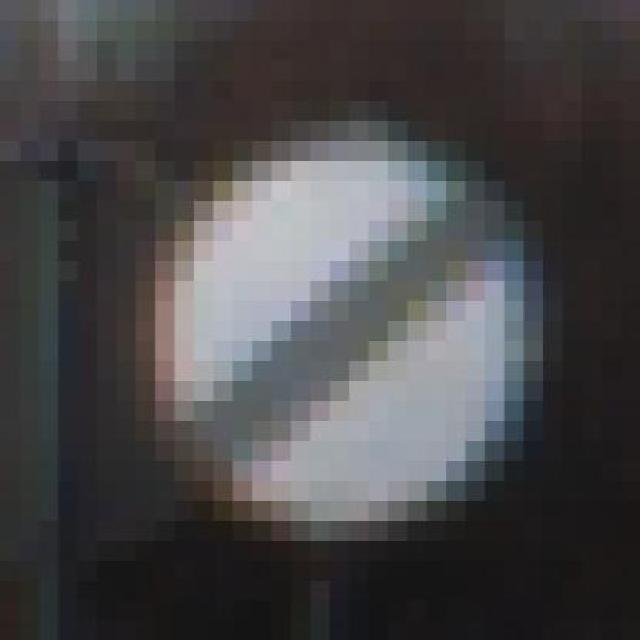End of all speed and passing limits: (136, 120, 602, 560)
